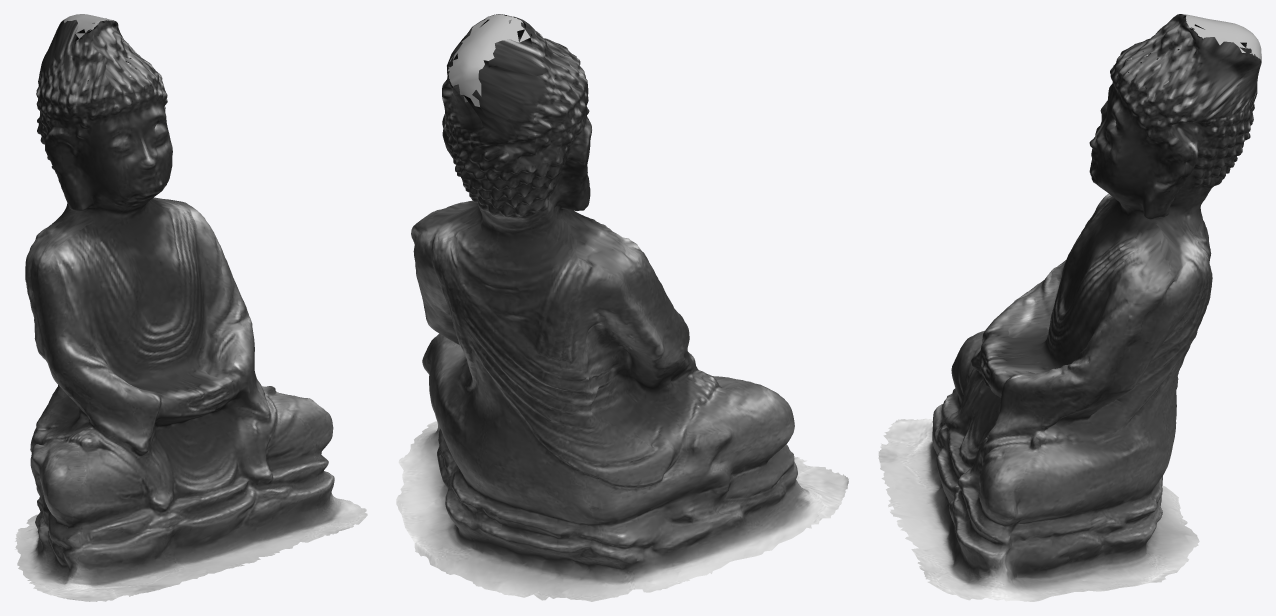
File: buddha-b.glb
3 views of the same model, side by side, from view 1: azimuth 30°, elevation 25°; view 2: azimuth 150°, elevation 25°; view 3: azimuth 270°, elevation 25° (orthographic). The views are drawn at different scales.
Parts seen in each view (by area): view 1: Object_2, Object_7; view 2: Object_2, Object_7; view 3: Object_2, Object_7.
Boxes of the visible parts, box(x1,y1,x2,y2) form: Object_2: box(15, 18, 367, 601); Object_7: box(62, 14, 130, 76); Object_2: box(396, 14, 848, 601); Object_7: box(447, 14, 530, 106); Object_2: box(878, 14, 1261, 601); Object_7: box(1129, 14, 1261, 60).
Bounding box in the file's own units: 3.73 × 5.11 × 3.39.
2 materials, 1 textured.
